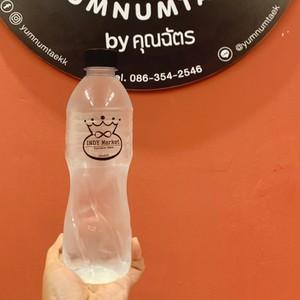bottle: (58, 44, 141, 288)
